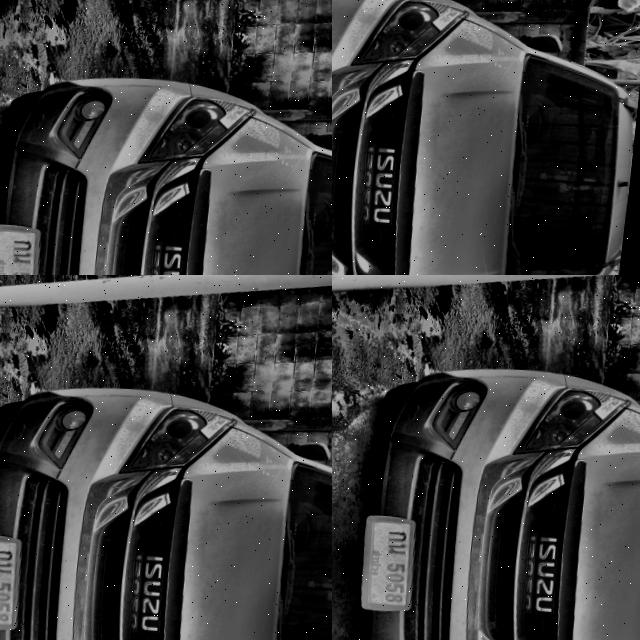license-plate: (364, 510, 427, 611)
